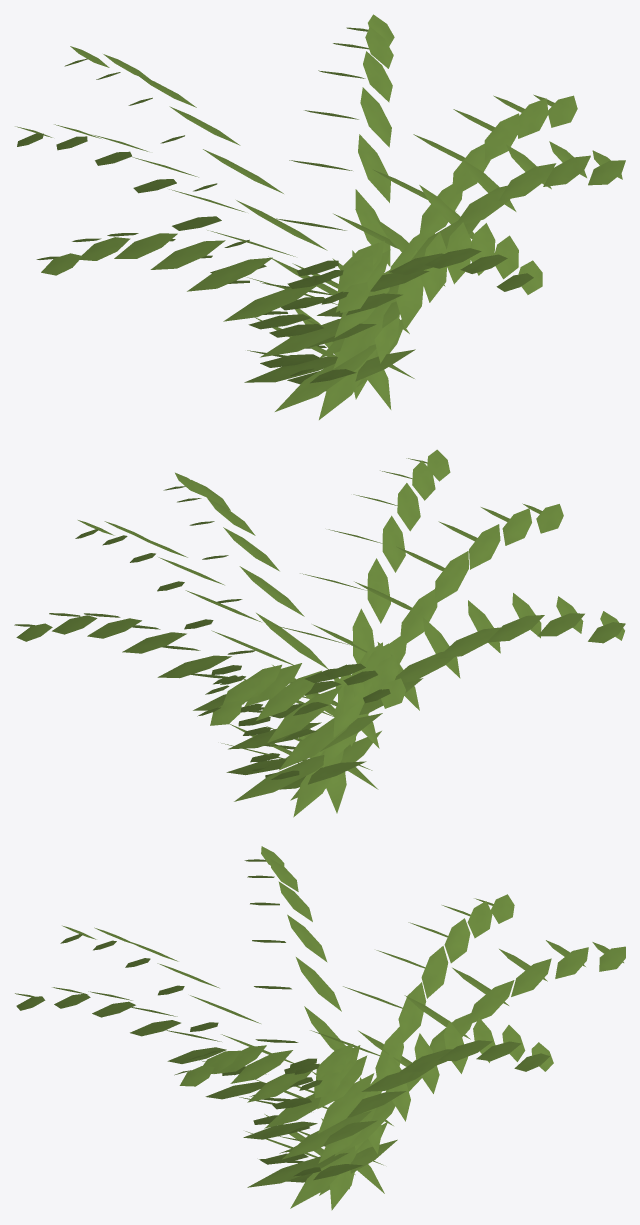
File: Fern.glb
The picture shows the model from 3 angles, top to bottom: view 1: azimuth 30°, elevation 25°; view 2: azimuth 150°, elevation 25°; view 3: azimuth 270°, elevation 25°; orthographic projection. The views are drawn at different scales.
Visible parts, largest first — view 1: Fern; view 2: Fern; view 3: Fern.
Boxes of the visible parts, x1,y1,x2,y2 form: Fern: (15,14,625,419); Fern: (14,449,625,817); Fern: (15,846,625,1210).
Size of the model in its own units: 1.34 by 0.5285 by 1.45.
Materials: 1 (1 with a texture image).
